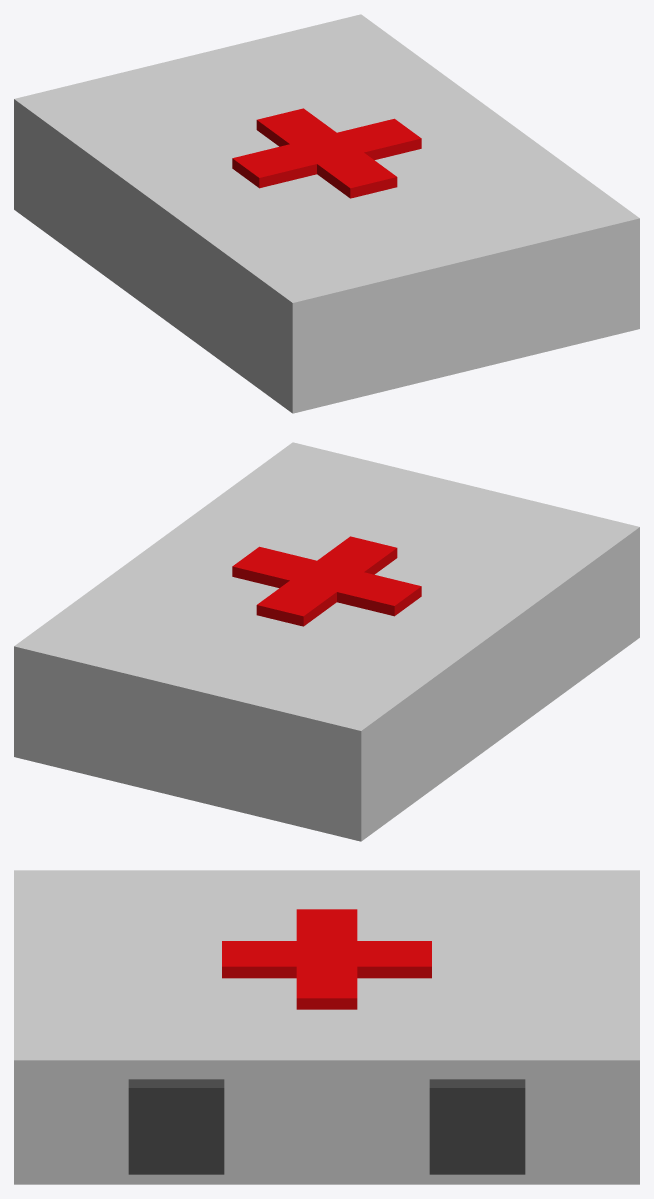
The model's file is Aid-Kit.fbx.
3 views of the same model, one above another, from view 1: azimuth 30°, elevation 25°; view 2: azimuth 150°, elevation 25°; view 3: azimuth 270°, elevation 25° (orthographic). The views are drawn at different scales.
Parts seen in each view (by area): view 1: Cube; view 2: Cube; view 3: Cube.
Boxes of the visible parts, x1=… form: Cube: x1=14, y1=14, x2=639, y2=413; Cube: x1=14, y1=442, x2=639, y2=841; Cube: x1=14, y1=870, x2=639, y2=1184.
Bounding box in the file's own units: 625 × 199 × 832.
